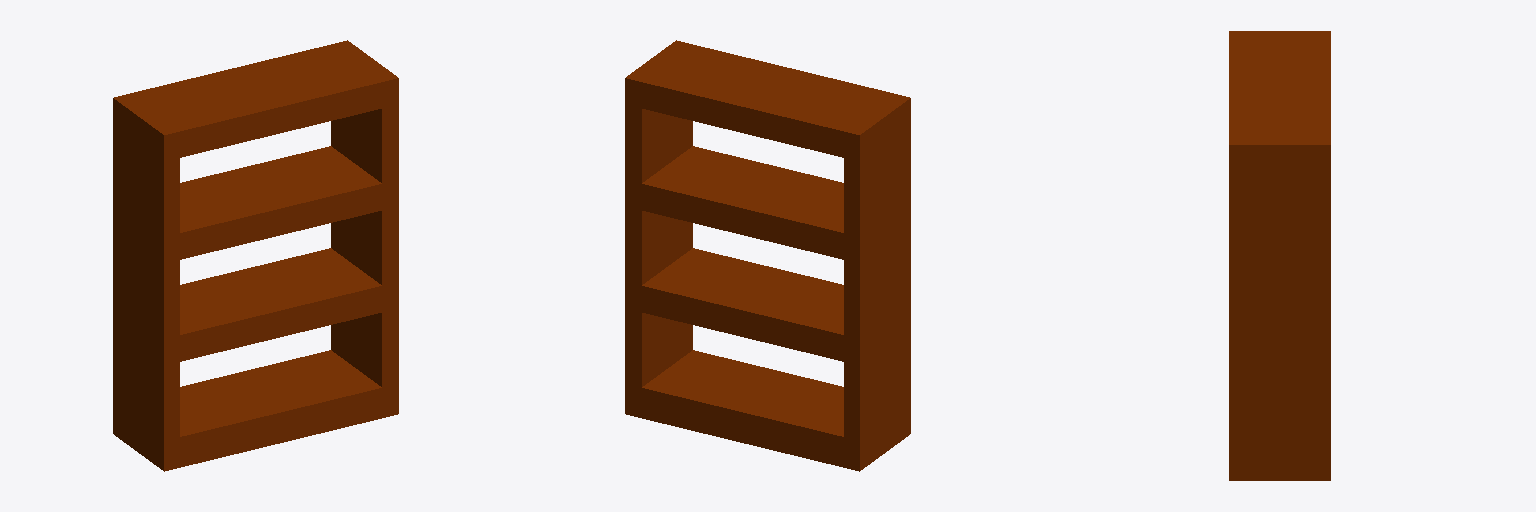
The model's file is polcosszekreny.obj.
The picture shows the model from 3 angles: view 1: azimuth 30°, elevation 25°; view 2: azimuth 150°, elevation 25°; view 3: azimuth 270°, elevation 25°; orthographic projection.
Parts seen in each view (by area): view 1: polcosszekreny; view 2: polcosszekreny; view 3: polcosszekreny.
Part boxes in pixels (left/top/right/bottom): polcosszekreny: left=113, top=40, right=398, bottom=471; polcosszekreny: left=625, top=40, right=910, bottom=471; polcosszekreny: left=1229, top=31, right=1330, bottom=480.
Size of the model in its own units: 151 by 207 by 57.28.